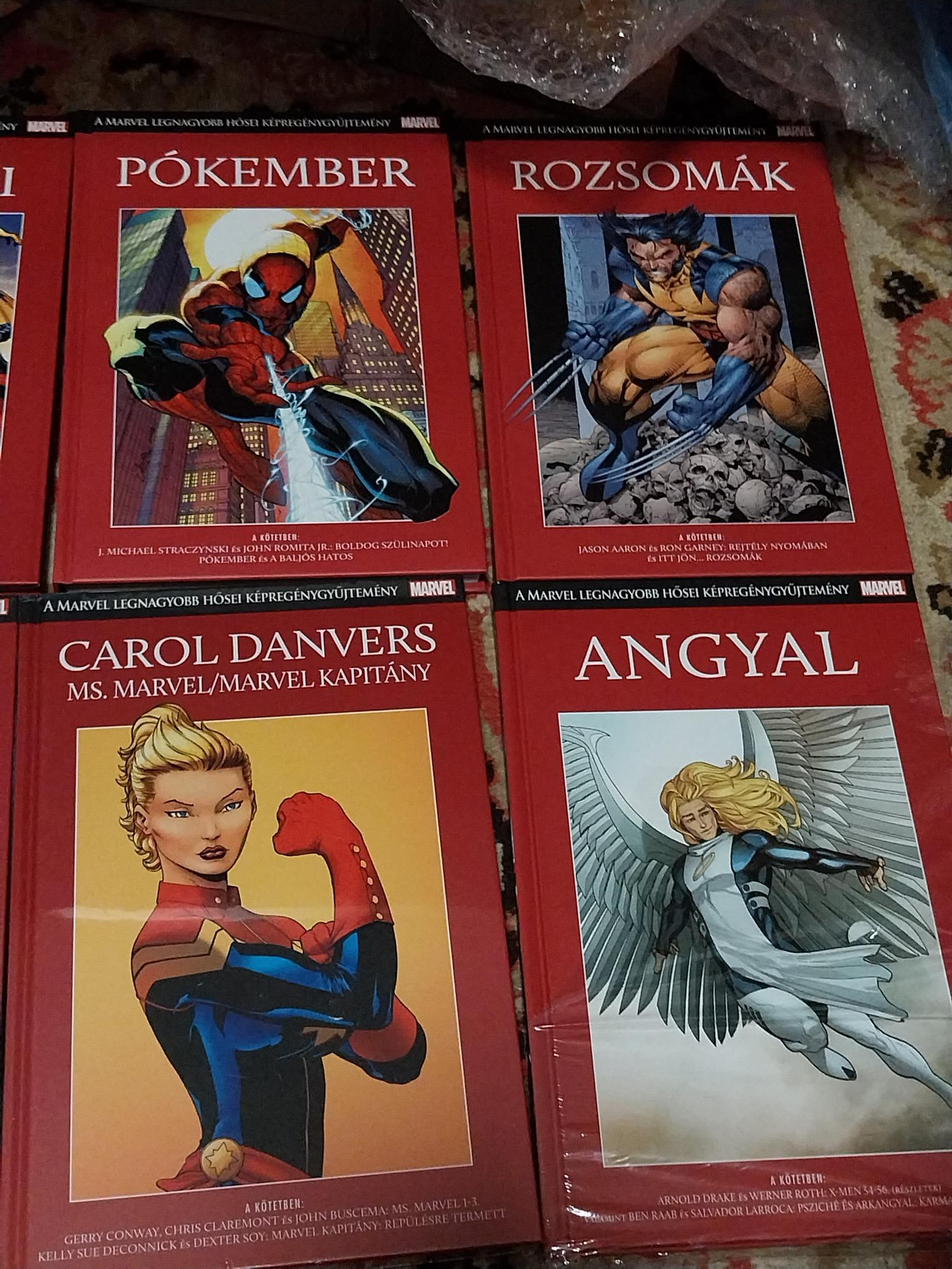comic: (0, 571, 538, 1269), (495, 556, 952, 1258), (466, 96, 910, 599), (52, 112, 484, 584)
